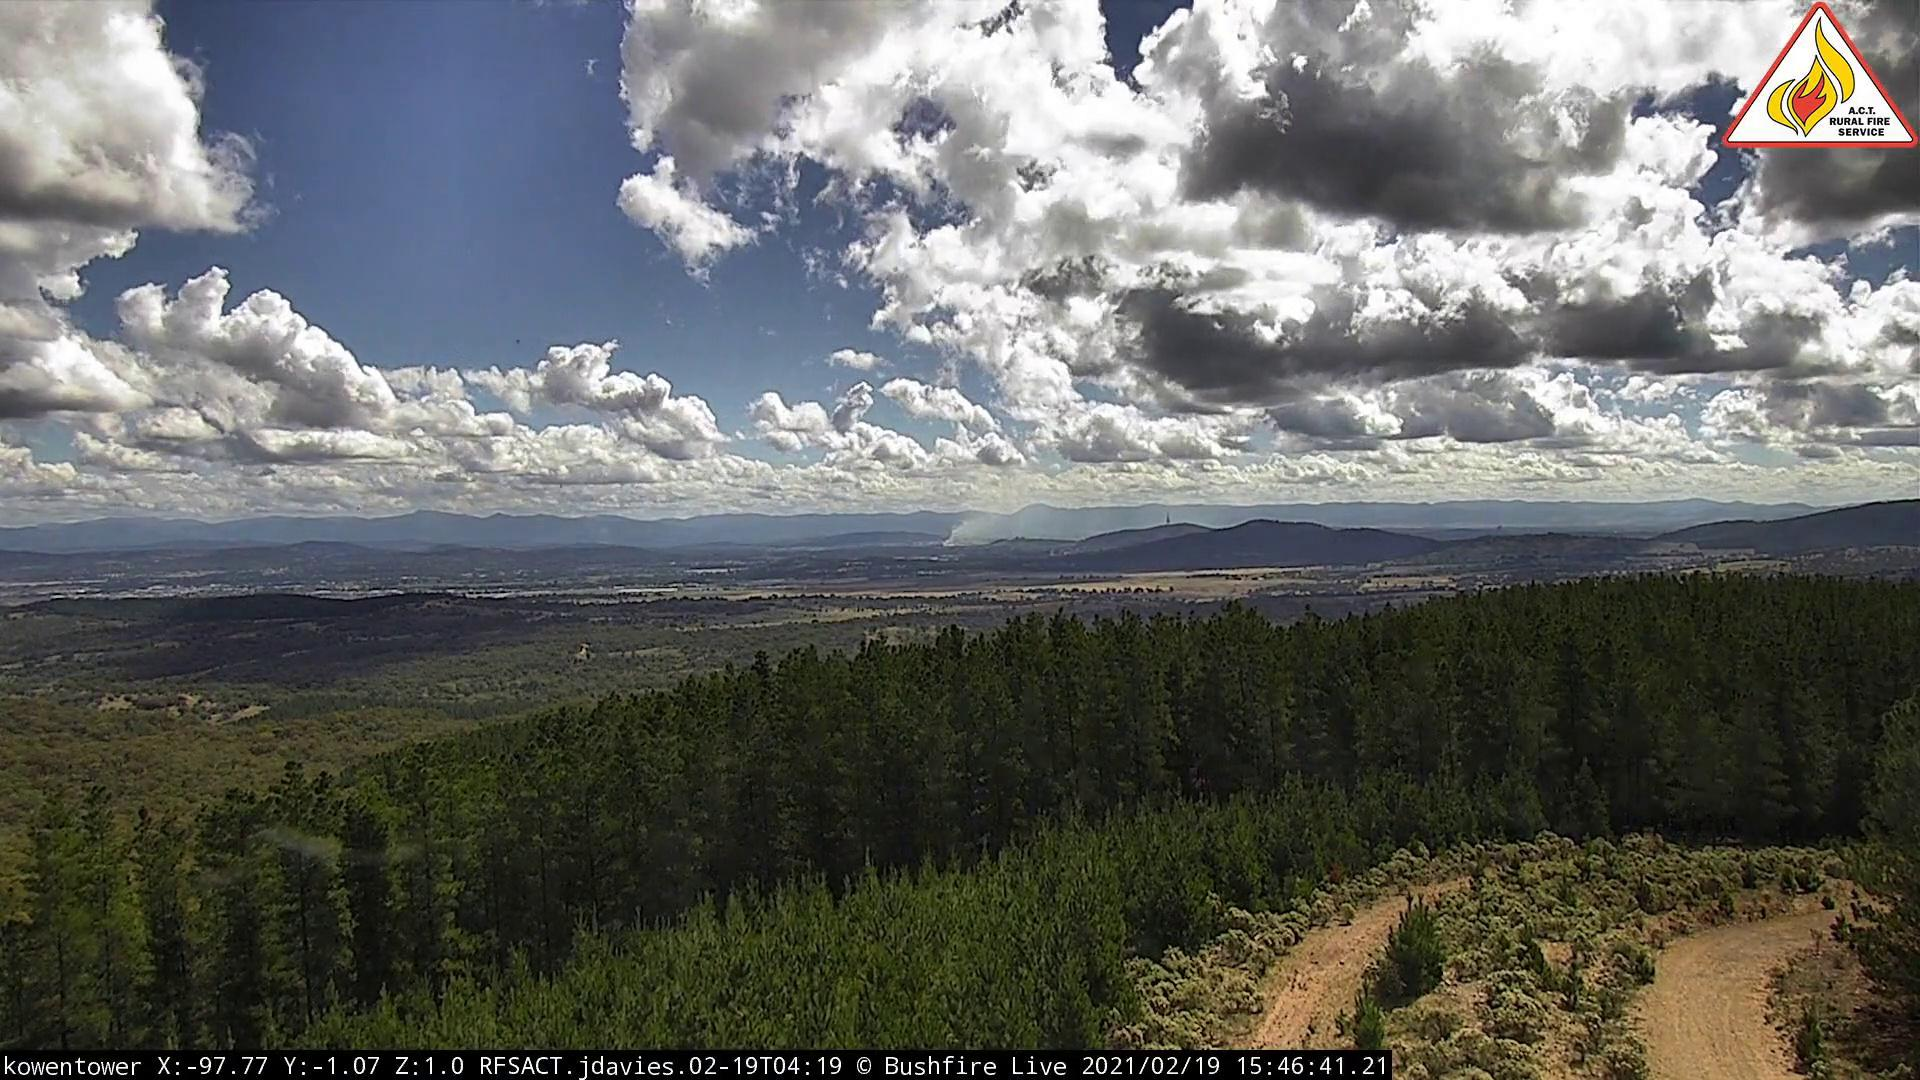Smoke: (939, 508, 1017, 553), (595, 534, 620, 553)
